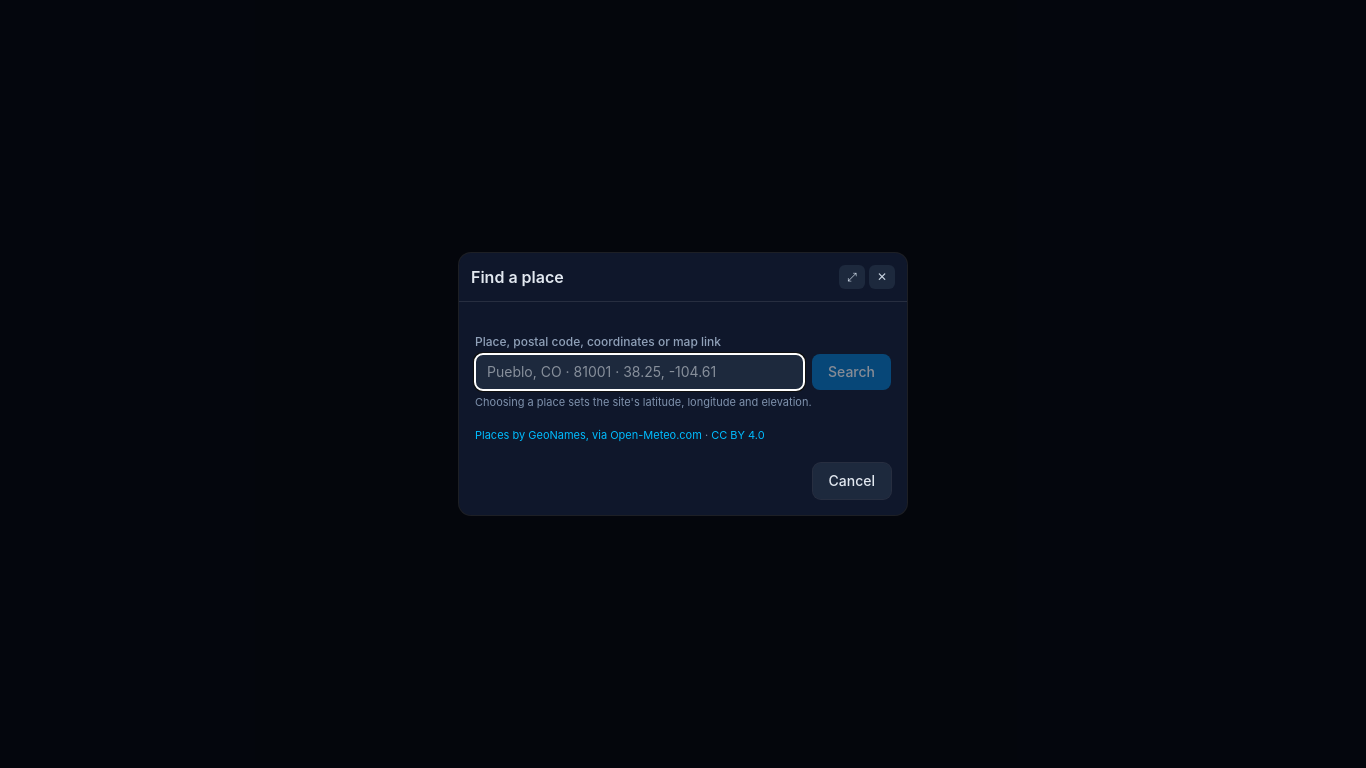
Test: PlaceSearchDialog › says so when nothing matches
Type "Nowhereville" into the field labelled "Place, postal code, coordinates or map link" at (640, 372), box [475, 354, 804, 390]
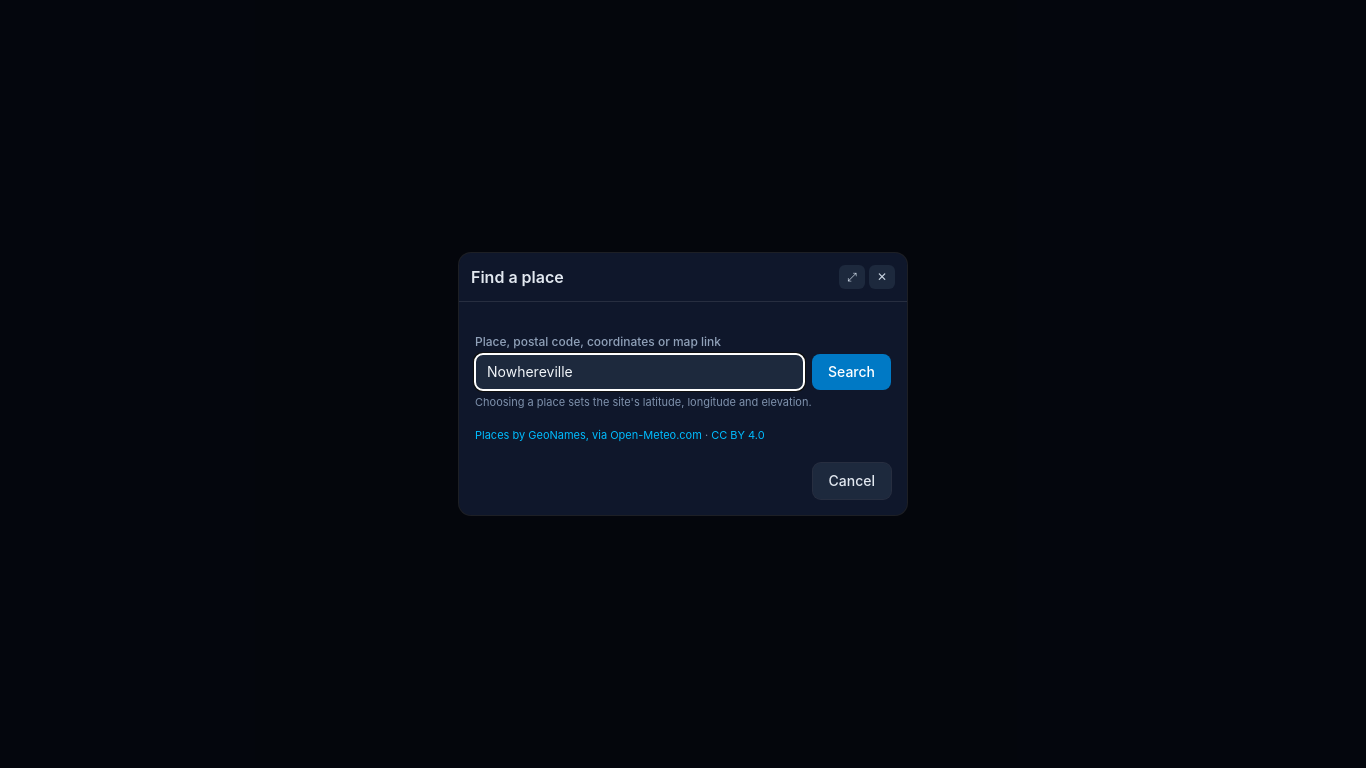
Click the button "Search" at (852, 372), box [812, 354, 891, 390]
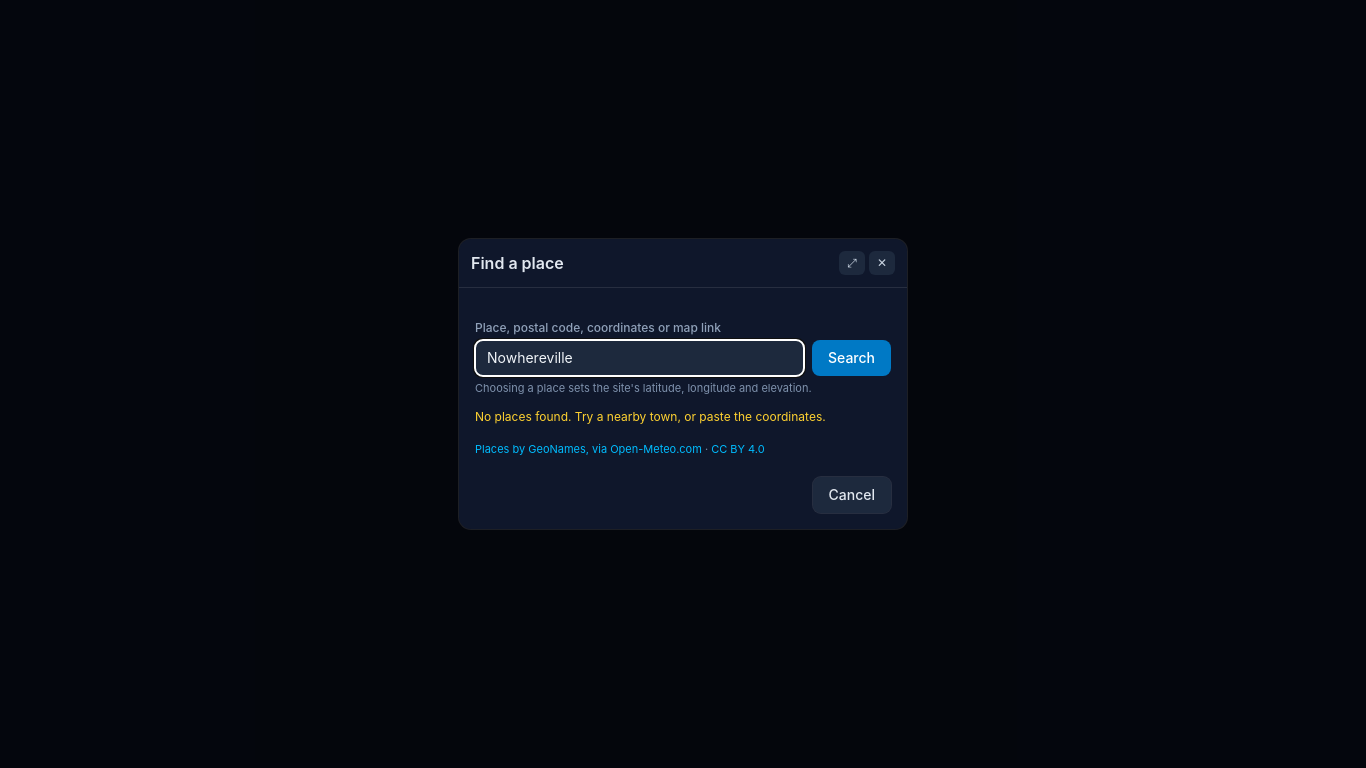
Check: the text "No places found" is shown, box [475, 408, 826, 424]
